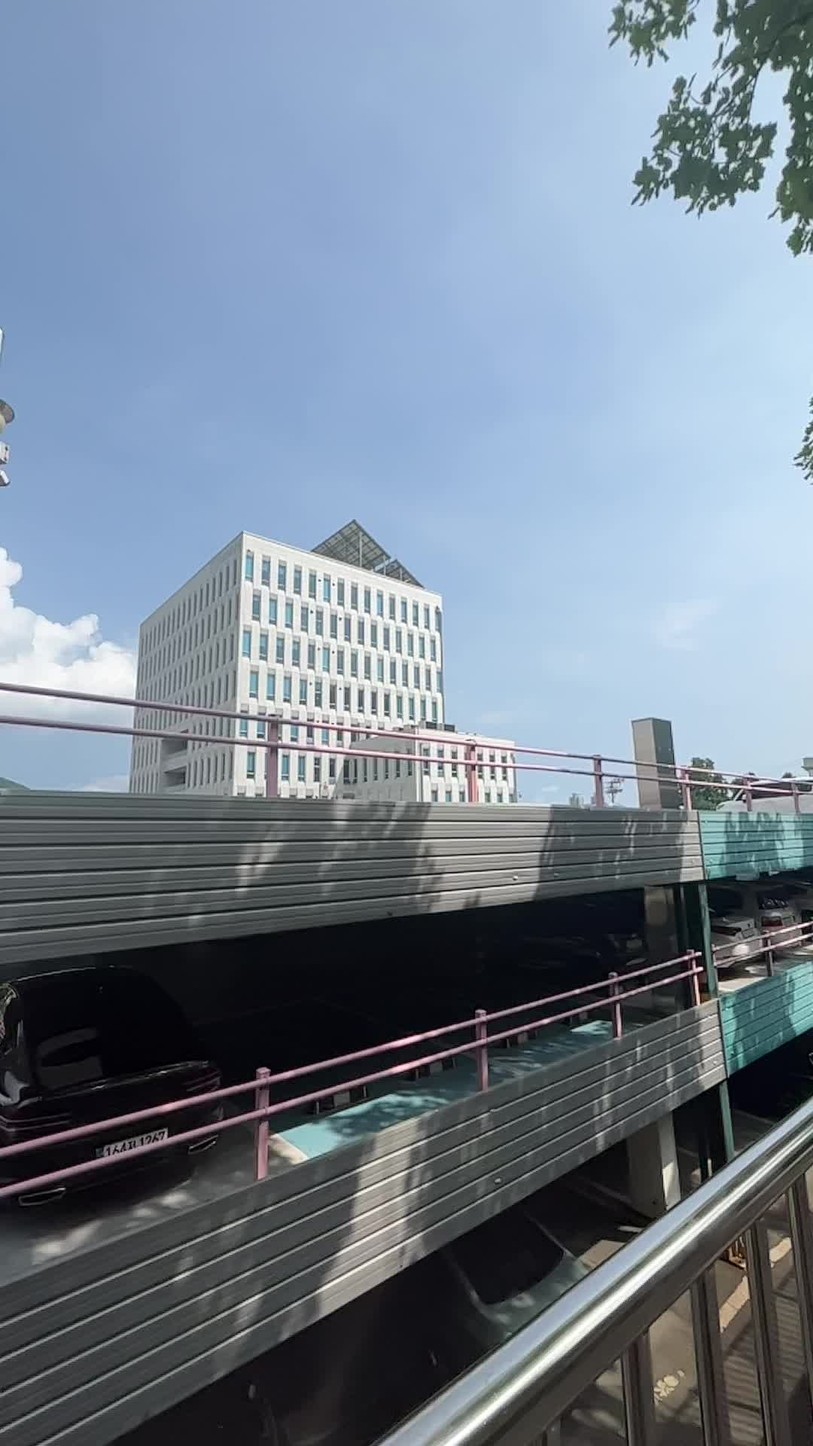low: (88, 499, 516, 813)
